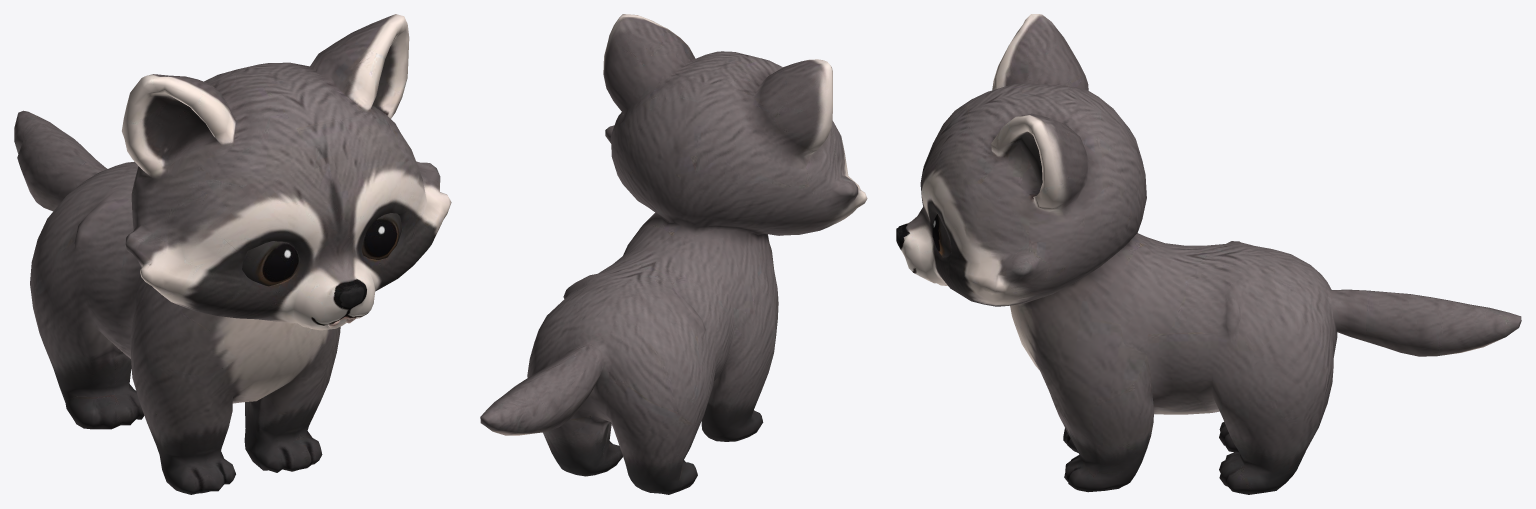
File: toy-raccoon.prefab.glb
3 views of the same model, side by side, from view 1: azimuth 30°, elevation 25°; view 2: azimuth 150°, elevation 25°; view 3: azimuth 270°, elevation 25° (orthographic). The views are drawn at different scales.
Parts seen in each view (by area): view 1: Prize_Batch0; view 2: Prize_Batch0; view 3: Prize_Batch0.
Part boxes in pixels (x1,y1,x2,y2): Prize_Batch0: (14, 14, 451, 494); Prize_Batch0: (480, 14, 867, 494); Prize_Batch0: (896, 14, 1521, 494).
Bounding box in the file's own units: 0.0161 × 0.0224 × 0.032.
Materials: 1 (1 with a texture image).
